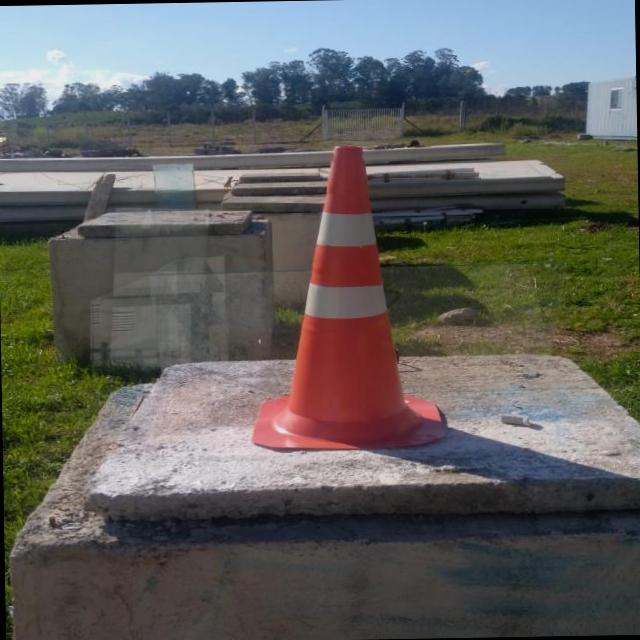Cone: (238, 141, 450, 456)
